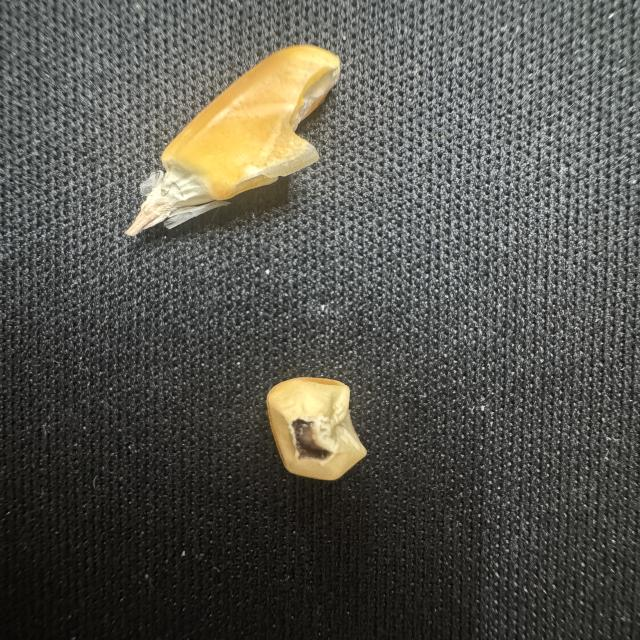Bad-Seed: (119, 30, 357, 257), (242, 365, 377, 493)
